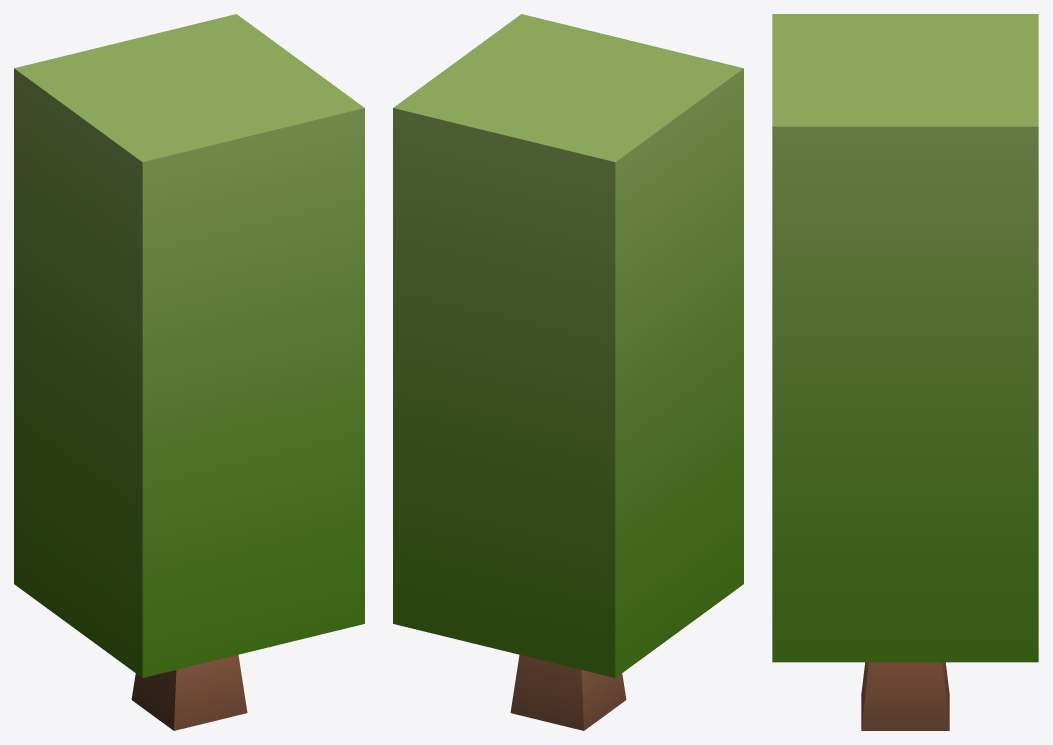
The model's file is tree 2.fbx.
3 renders of one model, left to right at view 1: azimuth 30°, elevation 25°; view 2: azimuth 150°, elevation 25°; view 3: azimuth 270°, elevation 25°, orthographic. The views are drawn at different scales.
Parts seen in each view (by area): view 1: tree 2; view 2: tree 2; view 3: tree 2.
Part boxes in pixels (x1,y1,x2,y2): tree 2: (14,14,364,730); tree 2: (393,14,743,730); tree 2: (772,14,1038,730).
Bounding box in the file's own units: 173 × 460 × 173.
